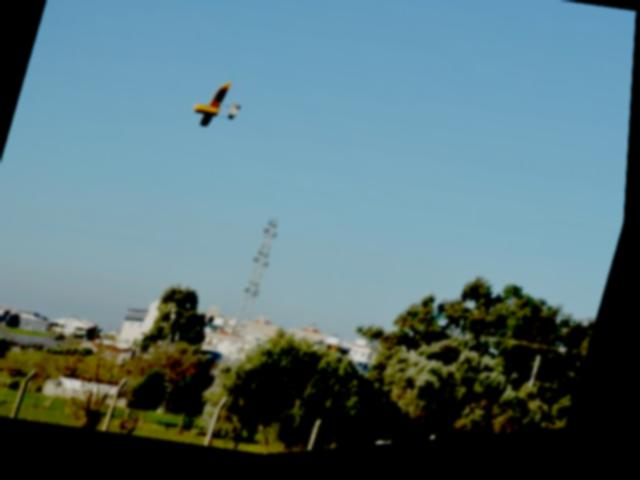iha: (183, 74, 253, 144)
